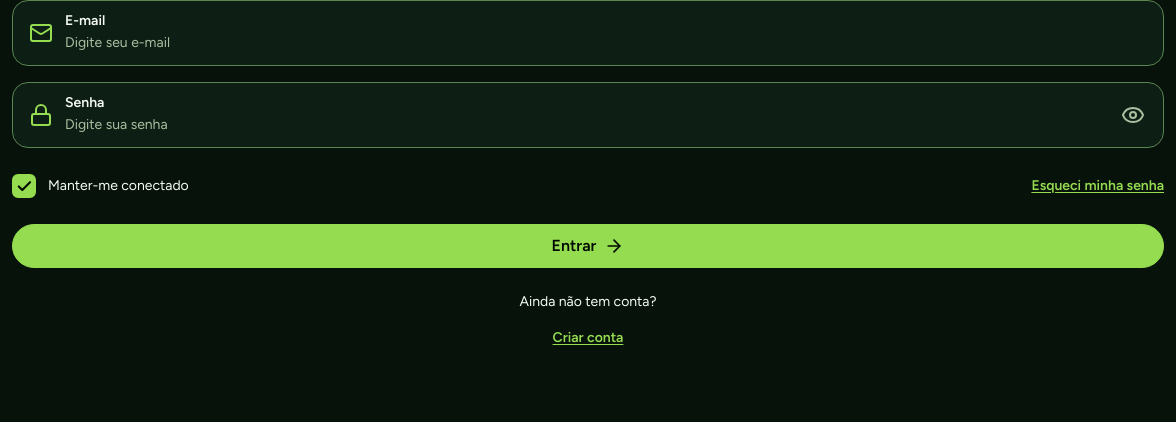
it: EntrarForm › conta não confirmada oferece reenviar o link e confirma o reenvio
In the field labelled "E-mail": (606, 43) [65, 31, 1147, 55], type "ana@exemplo.com"
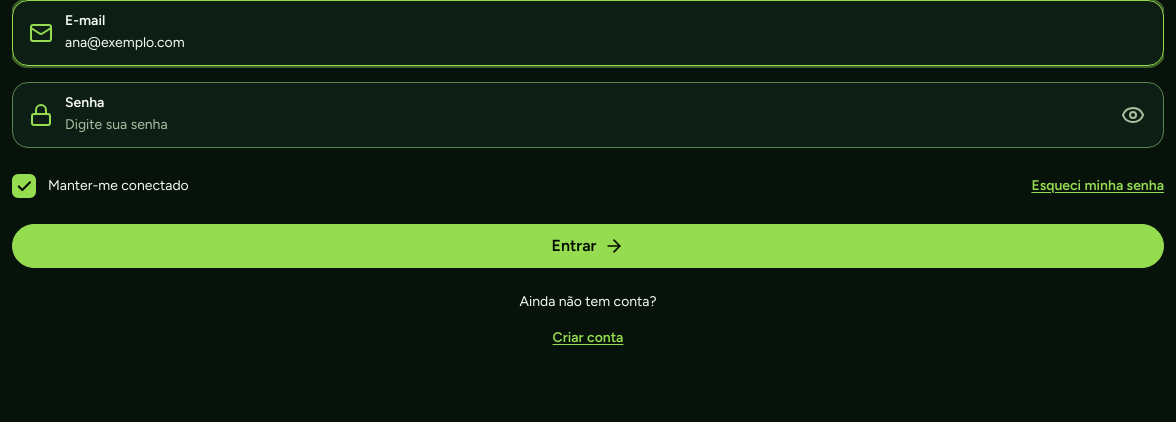
In the password field labelled "Senha": (582, 125) [65, 113, 1099, 137], type "qualquer"
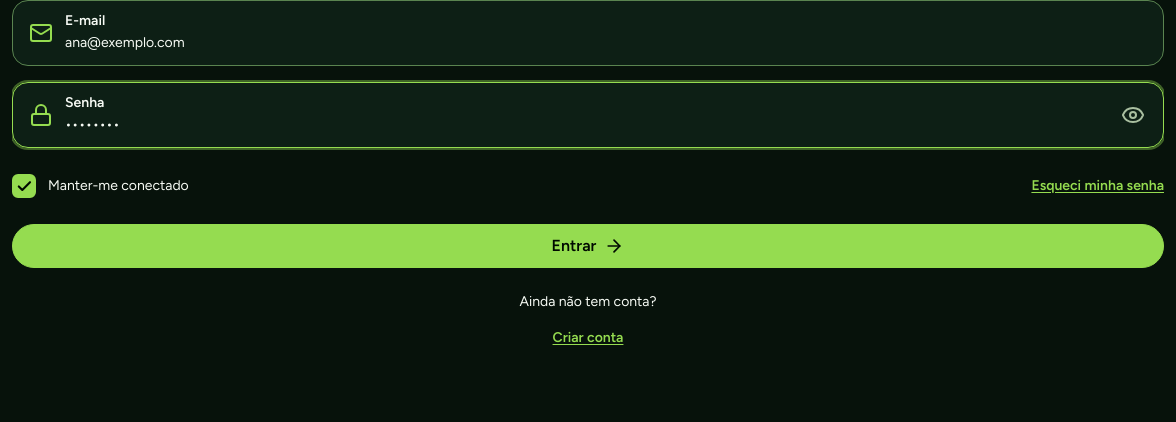
Click the button "Entrar": (588, 246) [12, 224, 1164, 268]
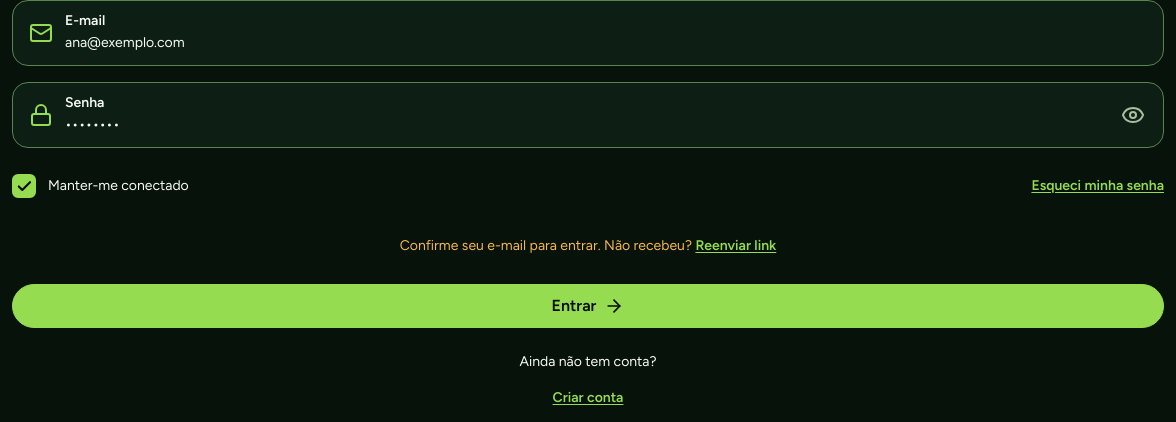
Now the text "Confirme seu e-mail para entrar. Não recebeu? Reenviar link" is shown, box [400, 224, 776, 268]
Click the button "Reenviar link": (736, 246) [695, 224, 776, 268]
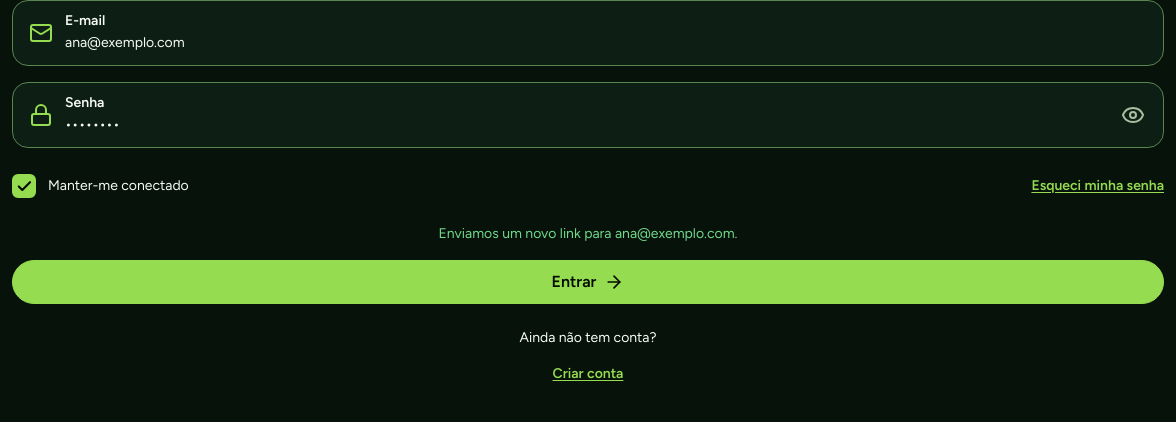
Now the text "Enviamos um novo link para ana@exemplo.com." is shown, box [438, 225, 738, 242]
